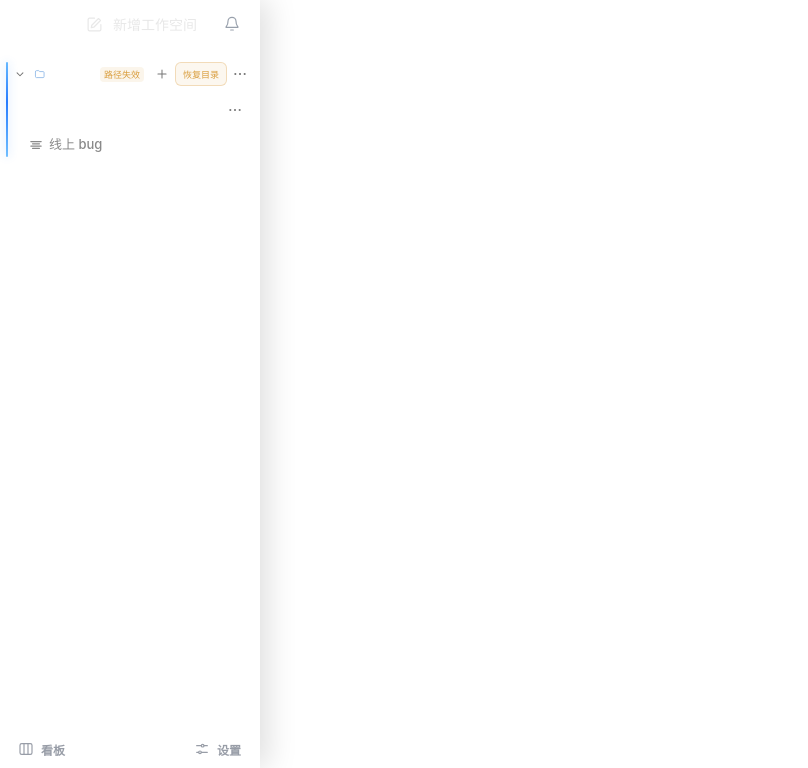
Test case: Workspace and Task navigation › lets a user relink an invalid custom Workspace from the flat list
This screenshot has width=808, height=768.
Click the button with aria-label "重新关联工作空间目录：Frontend". click: (201, 74)
box: top-left (175, 62), bottom-right (227, 86)
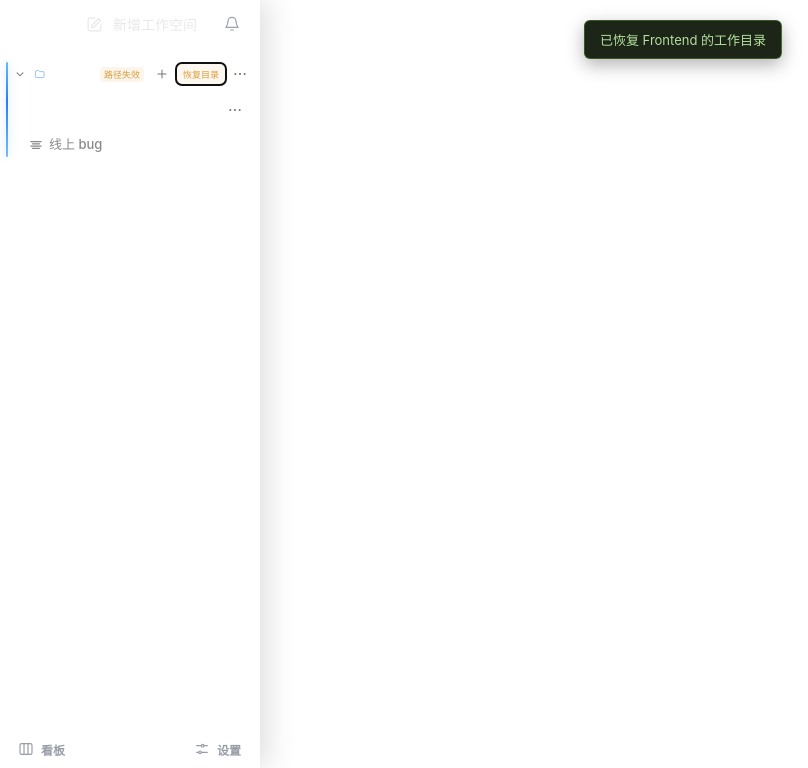
Expected: the text "已恢复 Frontend 的工作目录" is shown, top-left (584, 20), bottom-right (782, 59)
